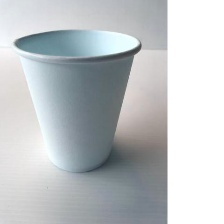paper_cup: (7, 24, 145, 176)
